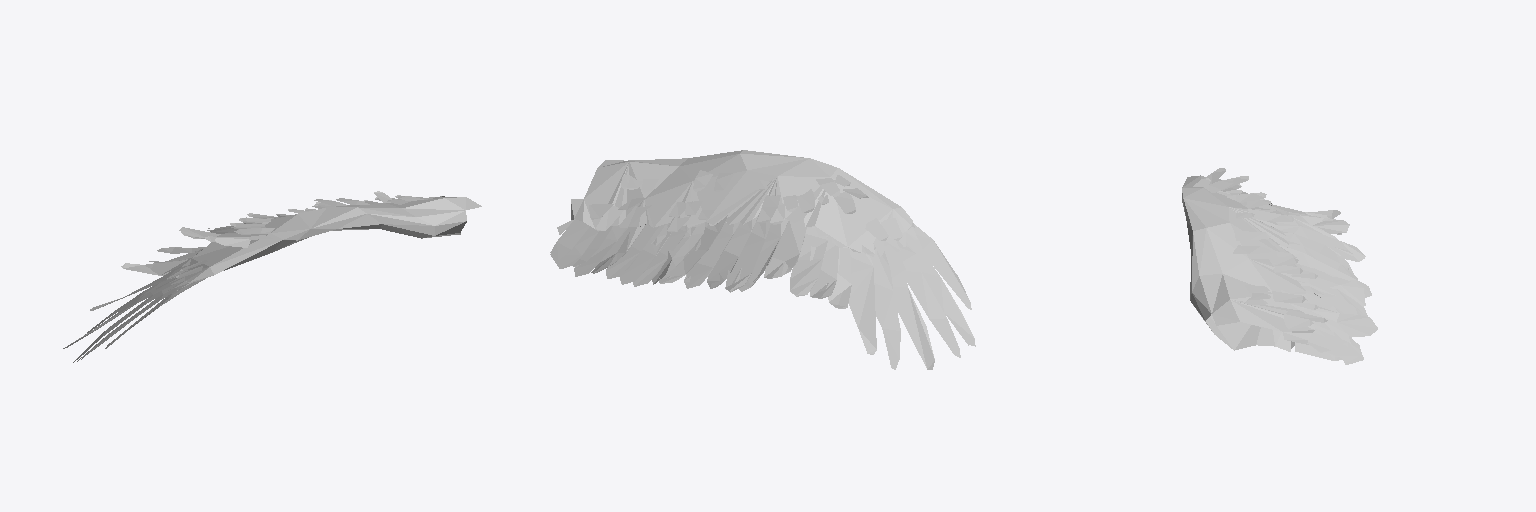
Rendered from condor_ala_der.obj.
3 renders of one model, left to right at view 1: azimuth 30°, elevation 25°; view 2: azimuth 150°, elevation 25°; view 3: azimuth 270°, elevation 25°, orthographic.
Parts seen in each view (by area): view 1: ala_der; view 2: ala_der; view 3: ala_der.
Boxes of the visible parts, box(x1,y1,x2,y2) form: ala_der: box(63, 191, 481, 362); ala_der: box(550, 150, 975, 369); ala_der: box(1182, 168, 1377, 364).
Size of the model in its own units: 1.26 by 0.3762 by 0.5503.